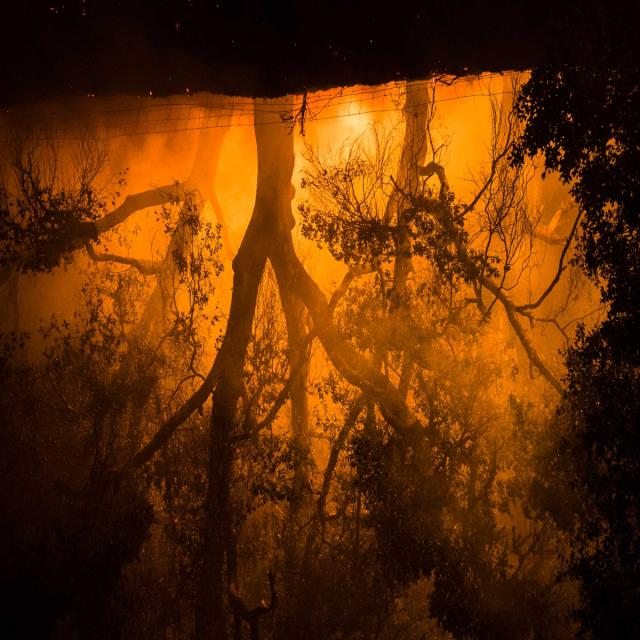fire: (286, 88, 384, 189)
